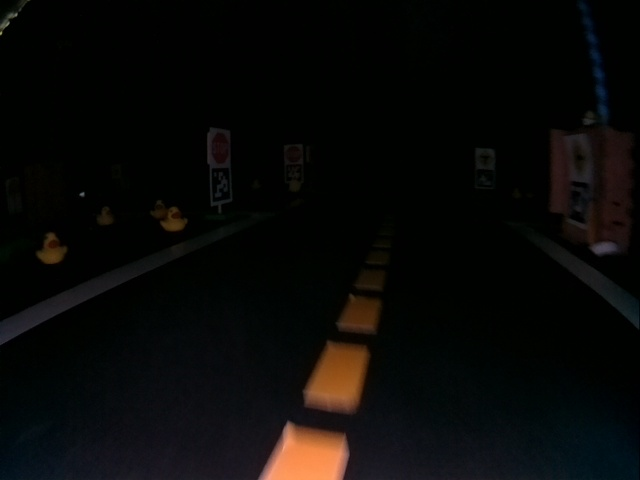Duckie: (39, 233, 67, 264), (162, 207, 187, 230), (150, 201, 166, 219), (97, 207, 113, 224)
Intersection sign: (570, 134, 592, 174), (477, 149, 495, 167)
QR code: (569, 180, 589, 227), (210, 169, 231, 203), (476, 169, 493, 188), (286, 166, 301, 181)
Stop sign: (210, 130, 230, 164), (284, 147, 302, 162)
